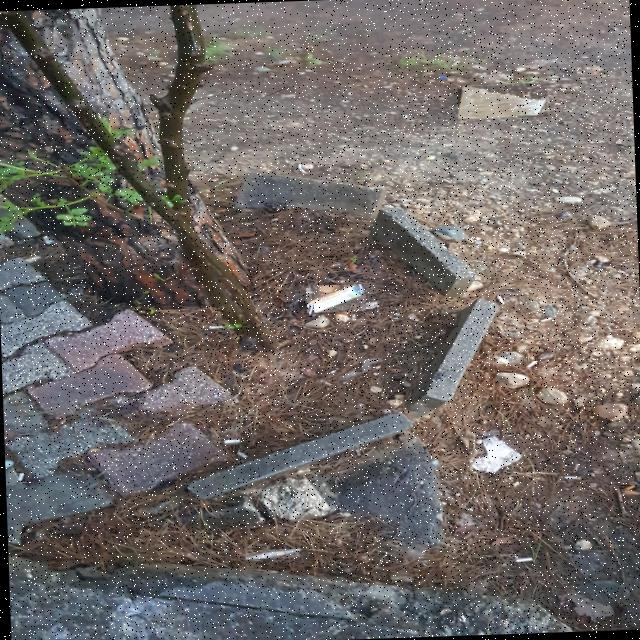Cigarette: (621, 484, 636, 491), (527, 361, 539, 368), (539, 316, 553, 321), (18, 472, 25, 481), (225, 439, 239, 443), (496, 295, 503, 302)
Drink carton: (306, 284, 365, 312)
Other plastic cup: (470, 435, 523, 472)
Plastic straw: (309, 305, 314, 314)
Unlabeled litter: (459, 86, 547, 119), (246, 548, 299, 558), (515, 557, 531, 561)
